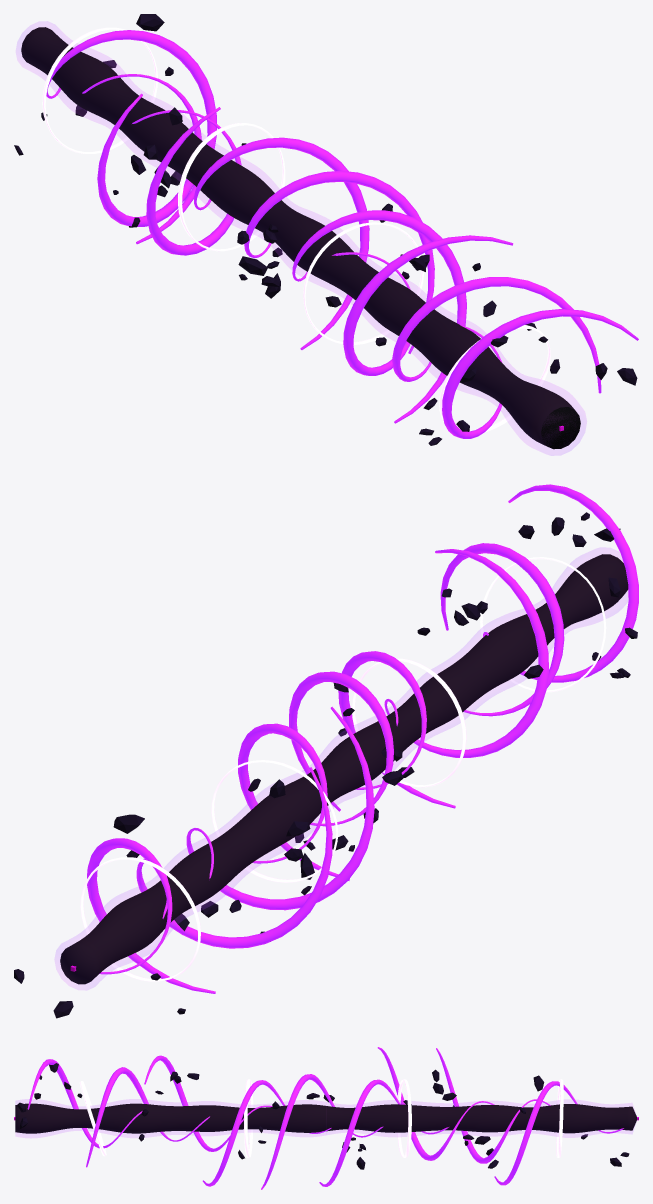
File: VoidBeam.fbx
3 renders of one model, top to bottom at view 1: azimuth 30°, elevation 25°; view 2: azimuth 150°, elevation 25°; view 3: azimuth 270°, elevation 25°, orthographic. The views are drawn at different scales.
Parts seen in each view (by area): view 1: Core.003, Tendrils, Horizon, Debris, Rings; view 2: Core.003, Tendrils, Horizon, Debris, Rings; view 3: Core.003, Tendrils, Horizon, Debris, Rings.
Part boxes in pixels (<box>): Core.003: <box>21,27,580,449</box>; Tendrils: <box>46,30,638,438</box>; Horizon: <box>16,21,586,455</box>; Debris: <box>14,14,637,445</box>; Rings: <box>42,27,550,432</box>; Core.003: <box>60,554,628,984</box>; Tendrils: <box>87,484,638,993</box>; Horizon: <box>55,548,627,989</box>; Debris: <box>14,512,637,1018</box>; Rings: <box>80,557,606,981</box>; Core.003: <box>15,1103,636,1133</box>; Tendrils: <box>27,1047,623,1189</box>; Horizon: <box>16,1099,635,1137</box>; Debris: <box>17,1063,629,1169</box>; Rings: <box>79,1079,563,1157</box>.
Size of the model in its own units: 5.17 by 5.4 by 24.1.
